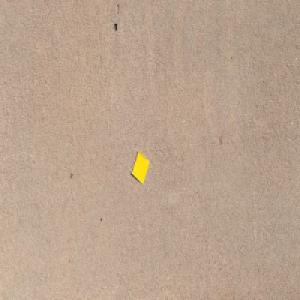PlasticPart: (130, 149, 149, 185)
